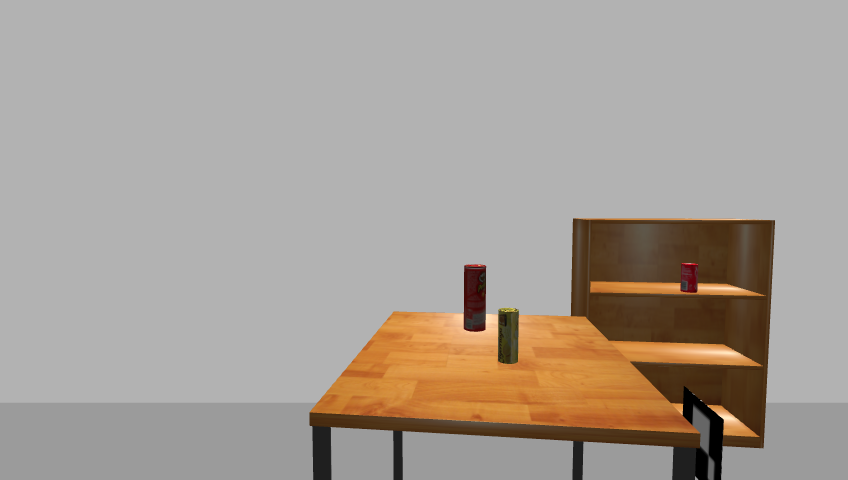aruco marker: (677, 387, 728, 480)
biscuits pack: (498, 308, 520, 365)
bookshelf: (567, 215, 782, 456)
coke can: (679, 263, 699, 293)
dinner table: (303, 310, 703, 480)
pringles can: (461, 263, 488, 333)
